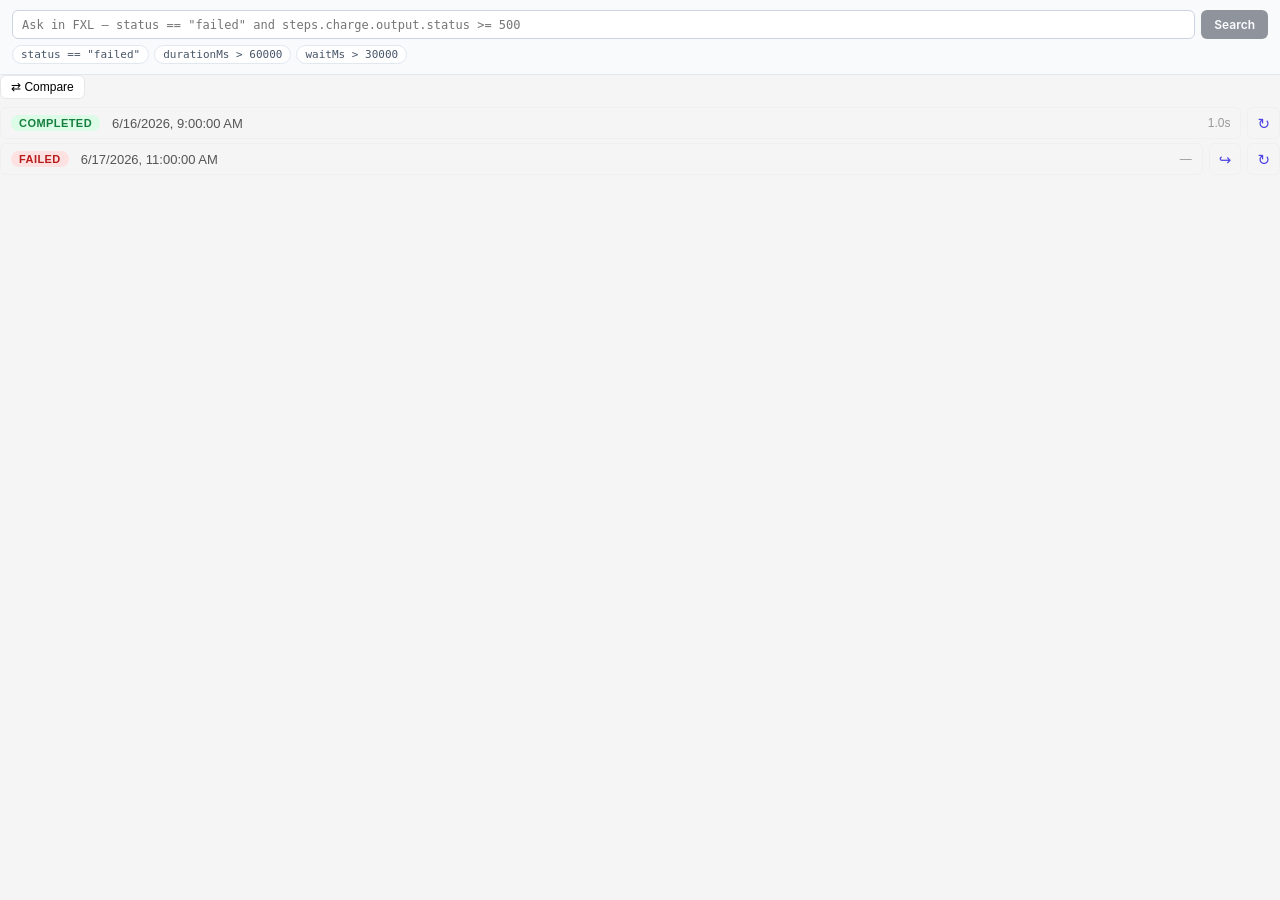
Scenario: ExecutionHistory replay › confirms with the manual label and no warning for an unchanged run
The image size is (1280, 900).
Expected: the text "failed" is shown, [11,151,69,167]
What coordinates should you click on to do the following:
click the button named "Replay this run"
I would click on:
 (1264, 159)
Its box is [1247,143,1279,175].
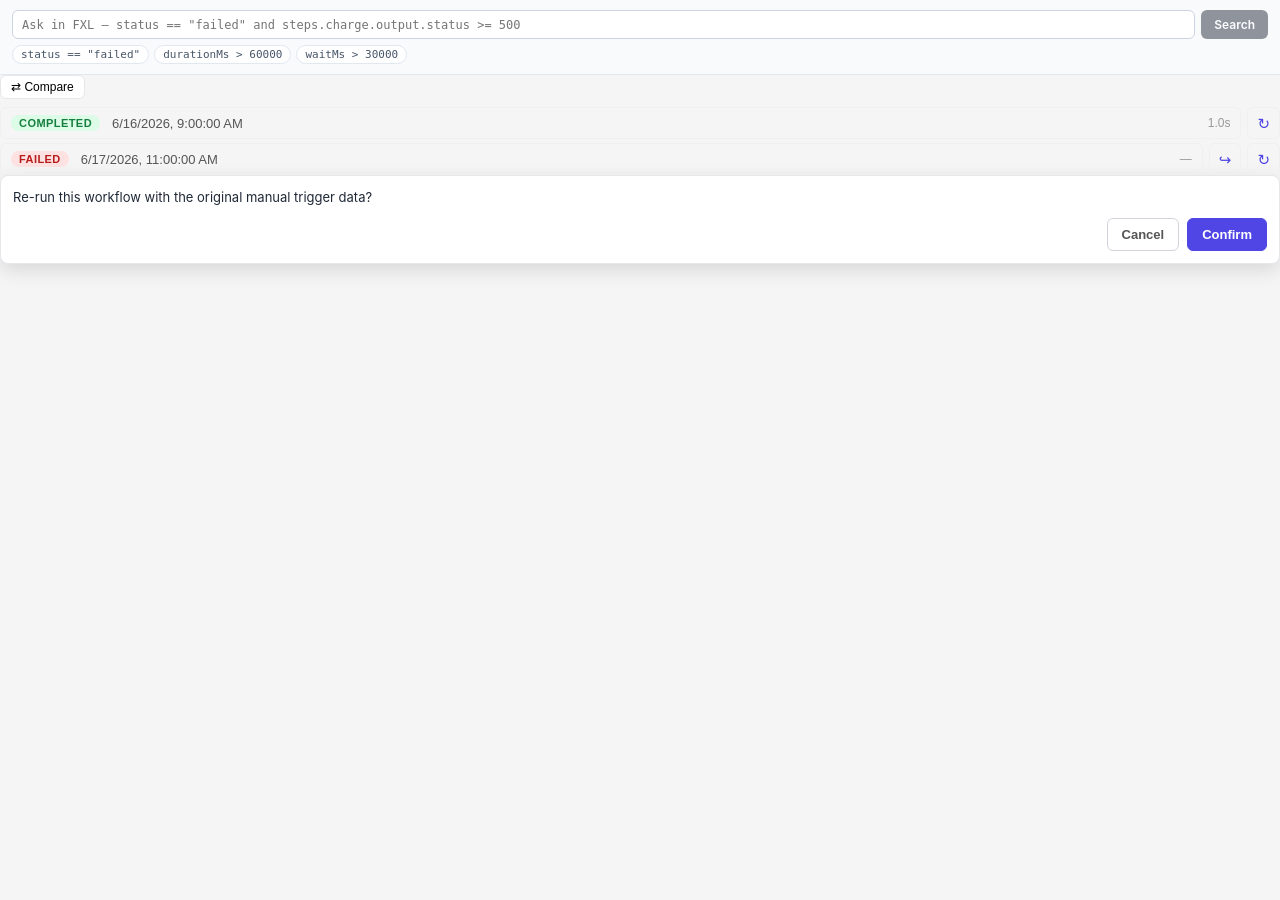
Expected: the dialog does not show "has been modified", [0,175,1279,264]
Now the dialog shows "Re-run this workflow with the original manual trigger data?", box [0,175,1279,264]
